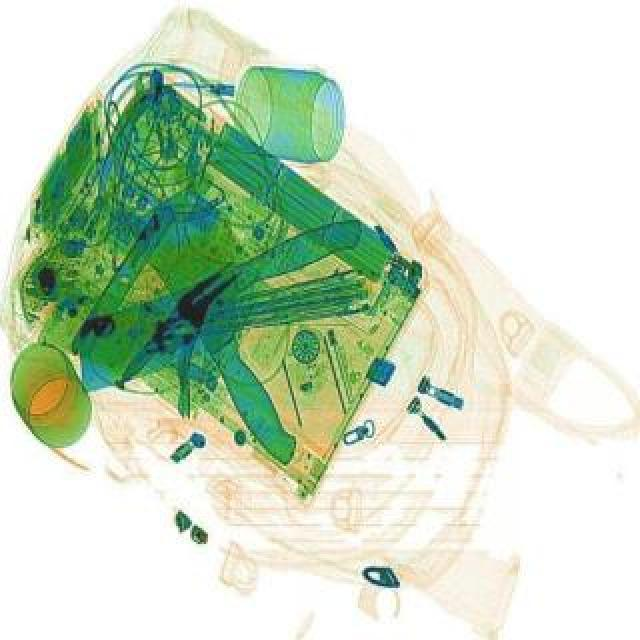knife: (124, 180, 344, 474), (54, 212, 388, 392)
